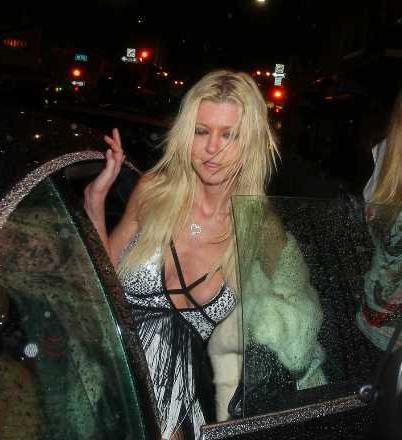Drunk: (190, 101, 246, 182)
